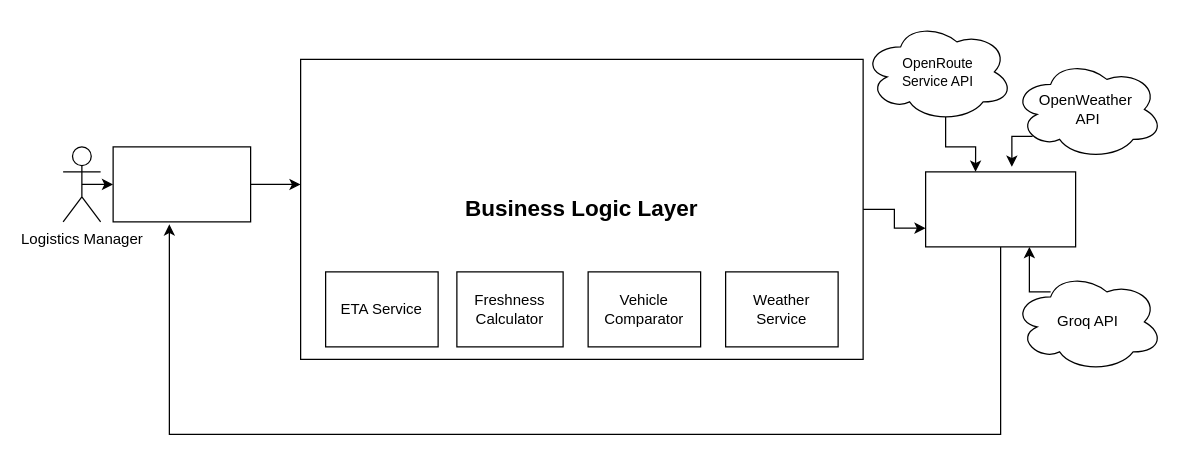
This 1185x466 diagram has some shape labels left out. Each missing label, with the centre of its shape:
Groq AI Agent (LLM Reasoning Layer): the point at 1000,209
Streamlit Dashboard (Real-Time Monitoring): the point at 181,184
